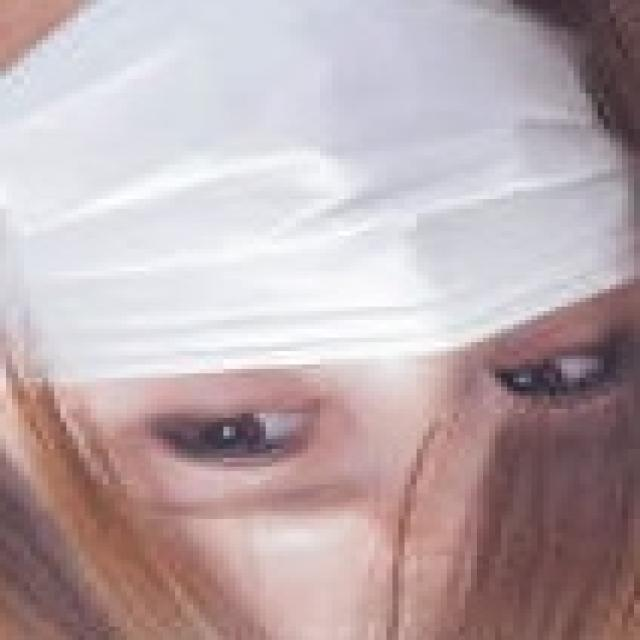Mask: (9, 9, 619, 429)
